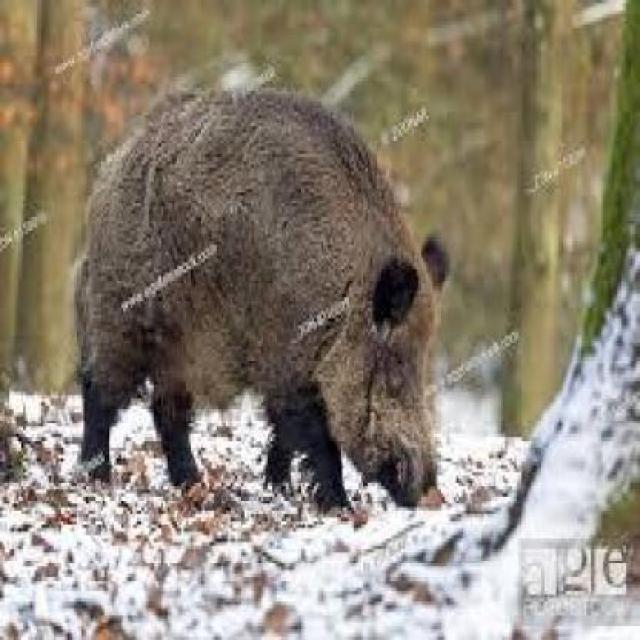wildboar: (72, 78, 460, 516)
